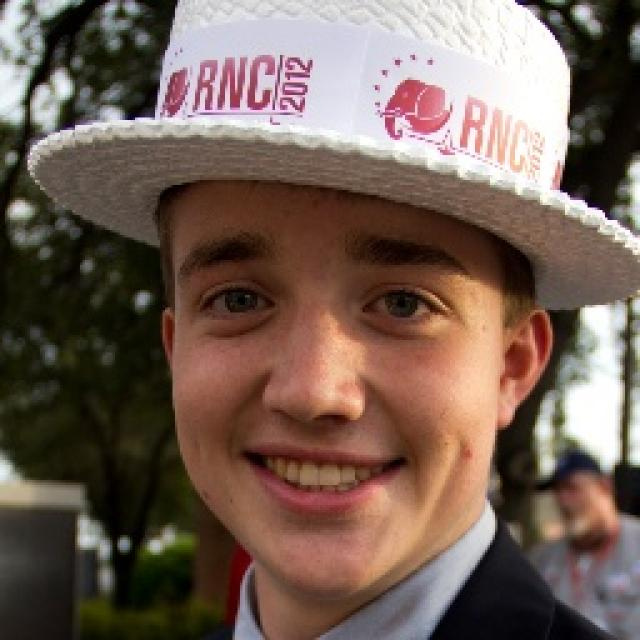earlobe: (496, 402, 520, 431)
eye: (366, 286, 442, 330), (202, 283, 272, 322)
nose: (256, 404, 373, 446)
wholeear: (498, 307, 552, 431), (161, 309, 180, 378)
